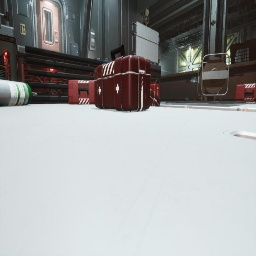0: (0, 79, 37, 106)
EmergencyPhone ,: (19, 20, 26, 35)
FirstAidBox ,: (94, 44, 151, 112), (68, 80, 95, 104), (235, 83, 256, 102), (150, 89, 160, 107), (150, 81, 160, 98)
SafetySwitchPanel ,: (89, 29, 96, 51)
